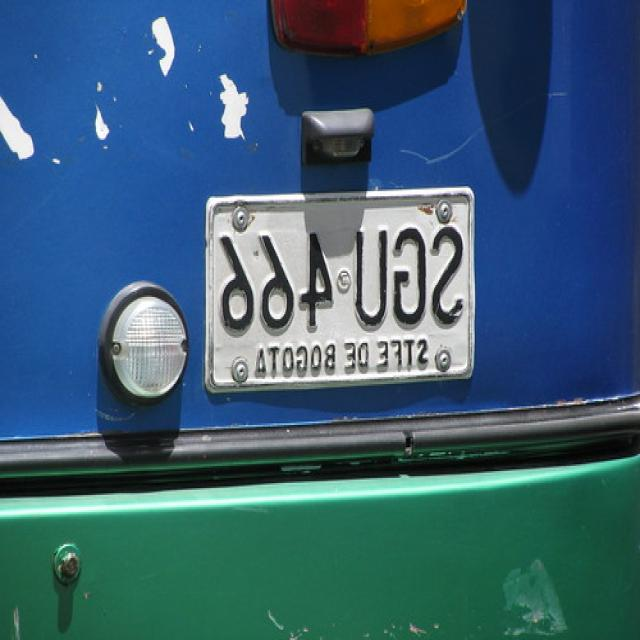placas: (211, 209, 470, 335)
